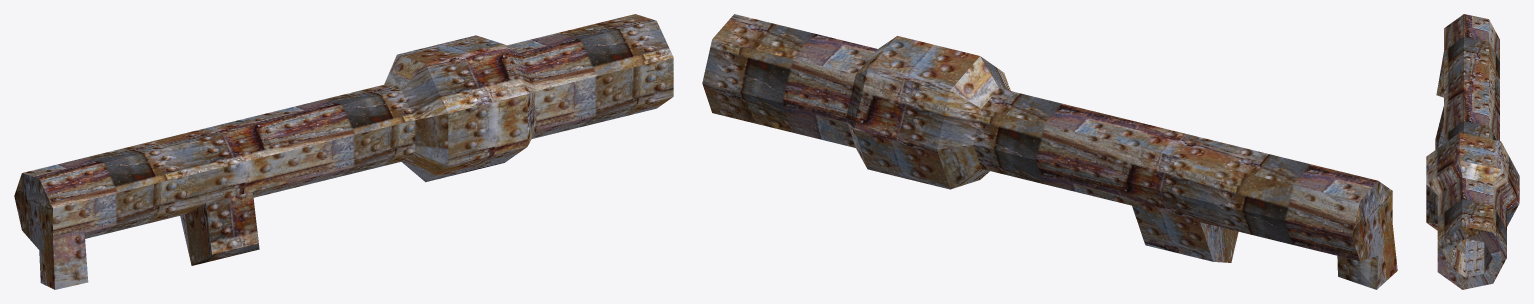
Rendered from bazoka.dae.
3 renders of one model, left to right at view 1: azimuth 30°, elevation 25°; view 2: azimuth 150°, elevation 25°; view 3: azimuth 270°, elevation 25°, orthographic. The views are drawn at different scales.
Visible parts, largest first — view 1: Bazoka01; view 2: Bazoka01; view 3: Bazoka01.
Boxes of the visible parts, <box> form: Bazoka01: <box>14,14,673,289</box>; Bazoka01: <box>702,14,1397,289</box>; Bazoka01: <box>1426,14,1519,289</box>.
Size of the model in its own units: 1 by 0.18 by 0.22.
1 material, 1 textured.
